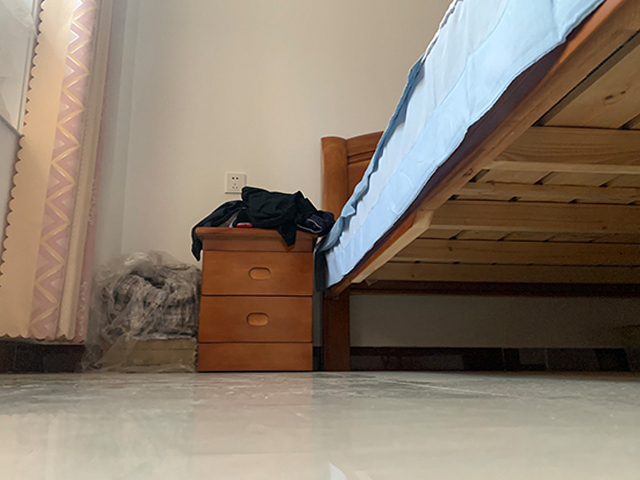bed: (319, 1, 640, 374)
cabinet: (195, 225, 315, 374)
curtain: (1, 1, 112, 343)
